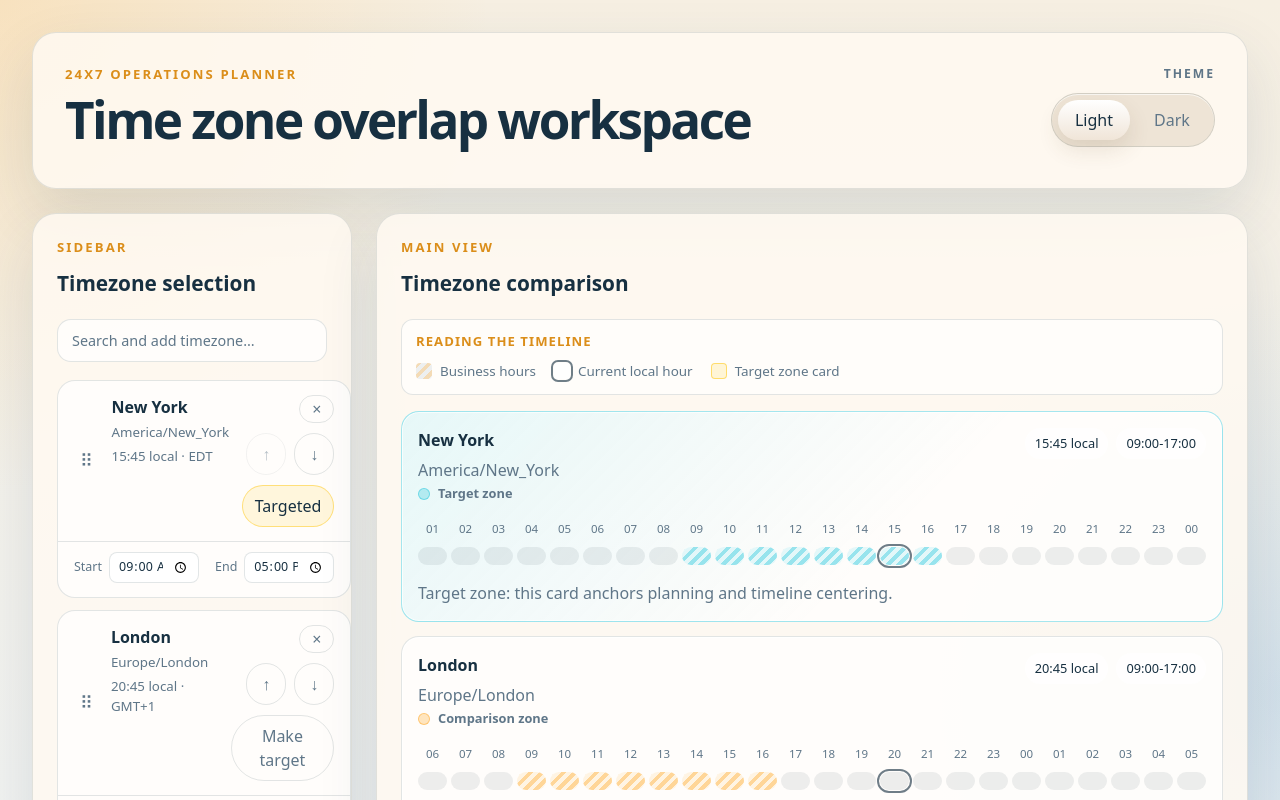
Test case: App shell › updates business hours when a time input changes
This screenshot has width=1280, height=800.
Replace the text in the time field named "new york business hours start" with "08:00" at point(154, 568), box [109,552,199,583]
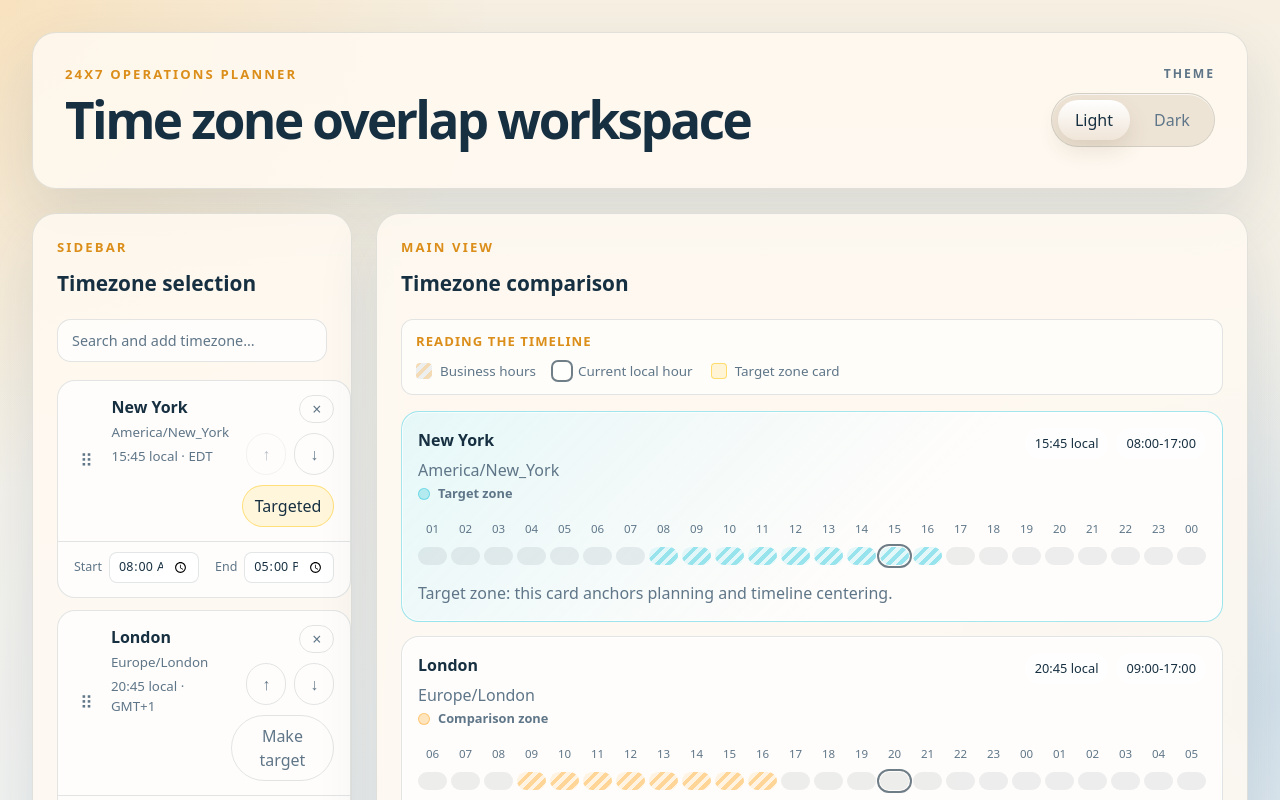
Result: the text "08:00-17:00" is shown at [1116,428,1206,459]
